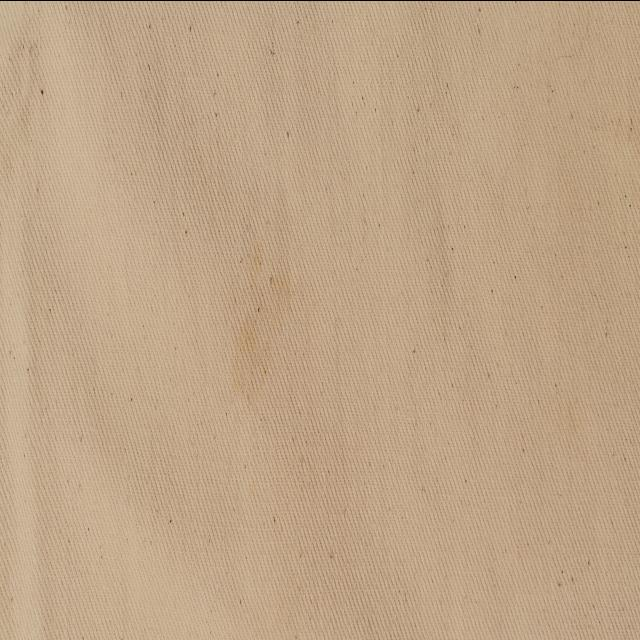taaaches: (224, 193, 300, 398)
